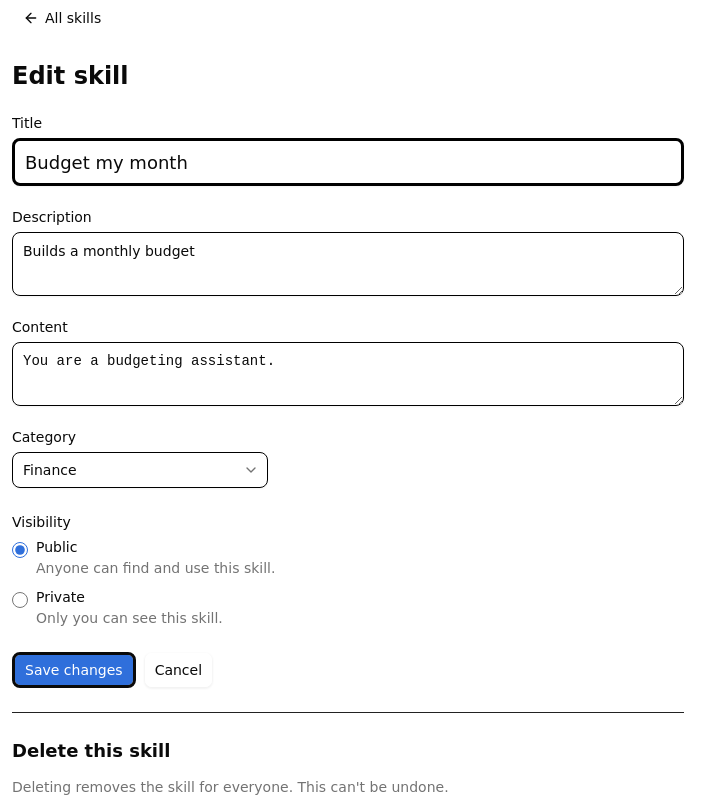
Test case: Edit skill page › shows the ownership error when the save is rejected (403)
Replace the text in the field labelled "Title" with "Plan my month": (348, 162) [12, 138, 684, 186]
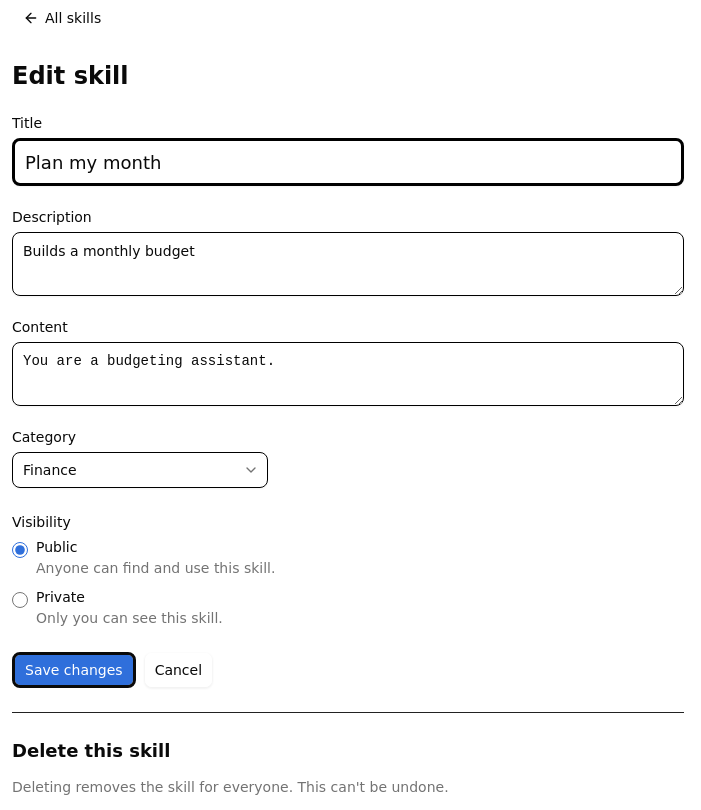
Click the button "Save changes": (74, 670) [12, 652, 136, 688]
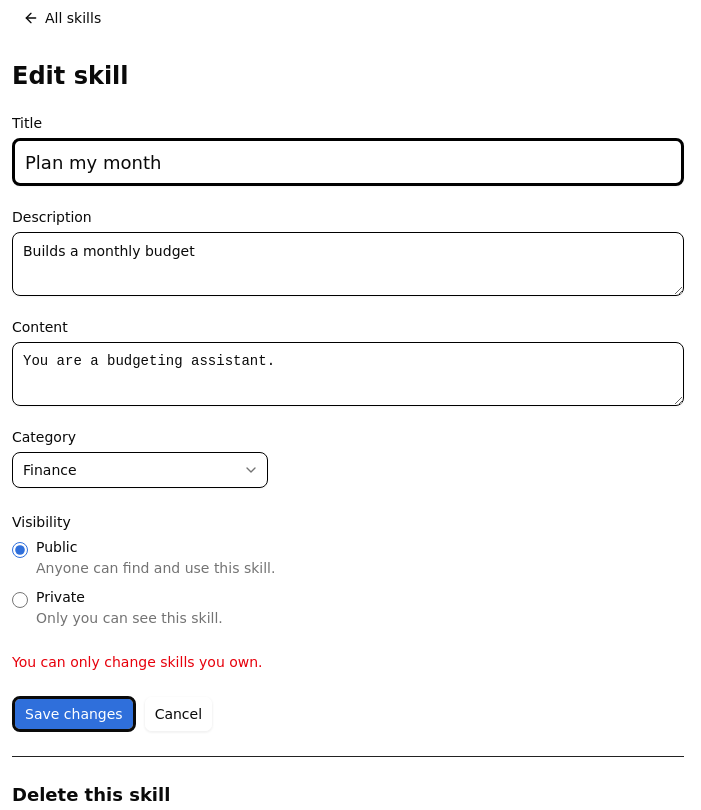
Check: the message reads "You can only change skills you own.", box [12, 654, 262, 670]
